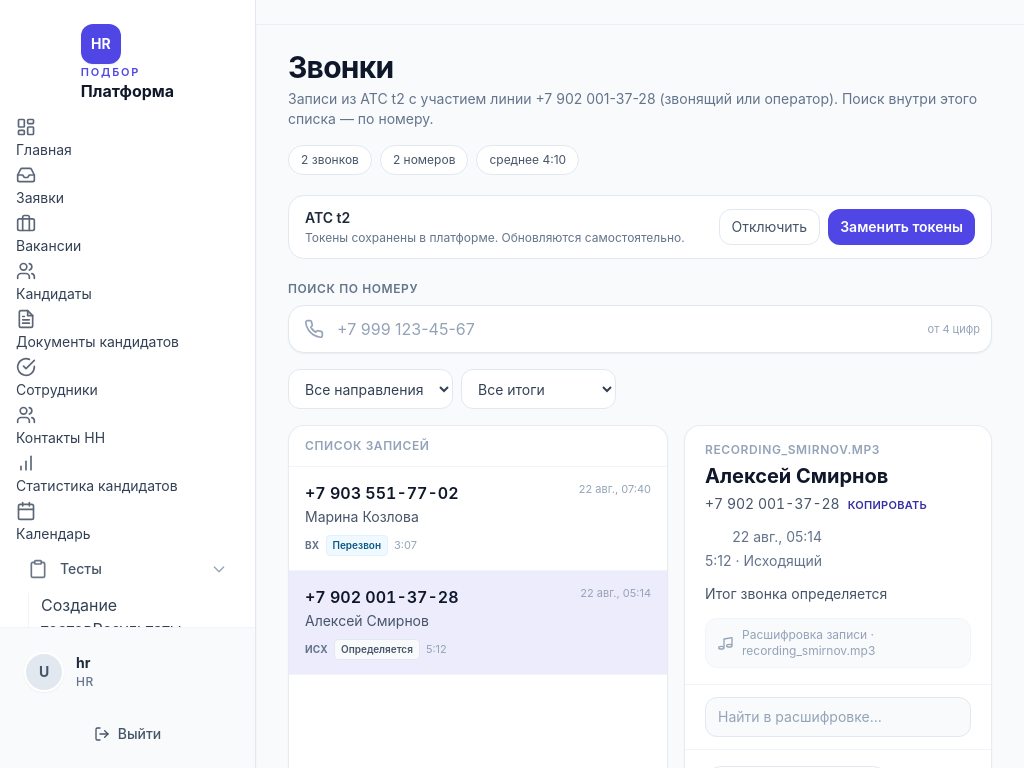
Test: CallsPage › filters by HR outcome from mocked data
Check: the element with test id "calls-list" shows "Марина Козлова", box x1=289 y1=467 x2=667 y2=571
Select "Перезвон" in the 2nd dropdown showing "Все итоги". click: (538, 389)
box: x1=461 y1=369 x2=616 y2=409
(page scrolled)
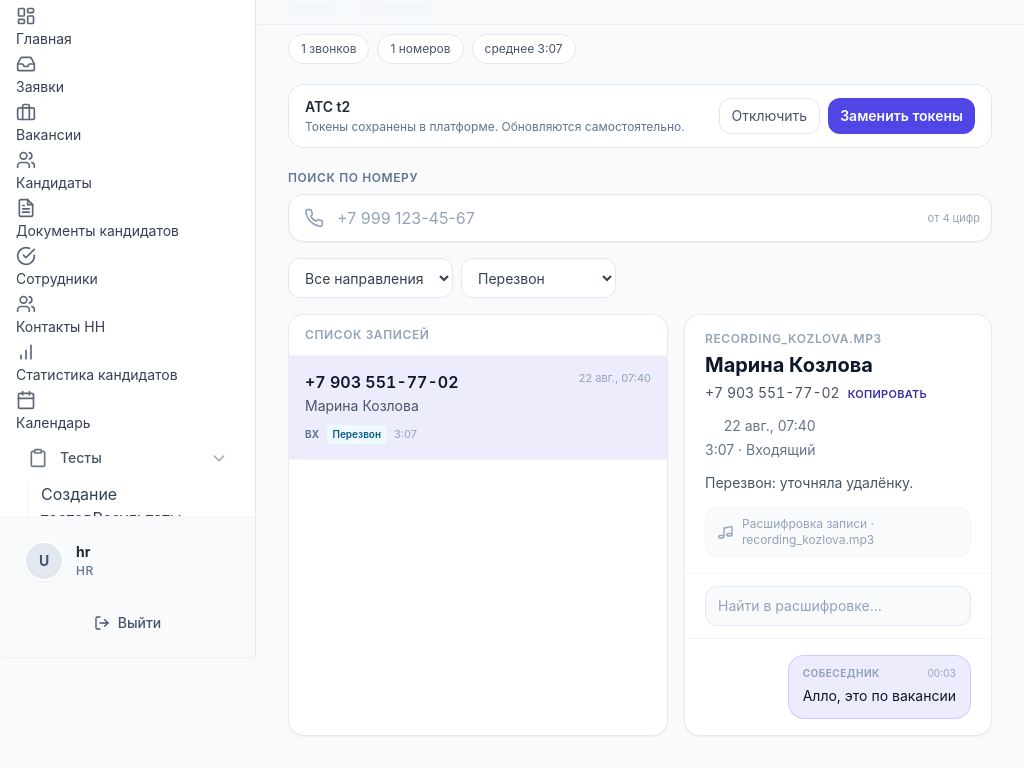
Check: the element with test id "calls-list" shows "Марина Козлова", box x1=289 y1=356 x2=667 y2=460
Check: the element with test id "calls-list" no longer shows "Алексей Смирнов", box x1=289 y1=356 x2=667 y2=460
